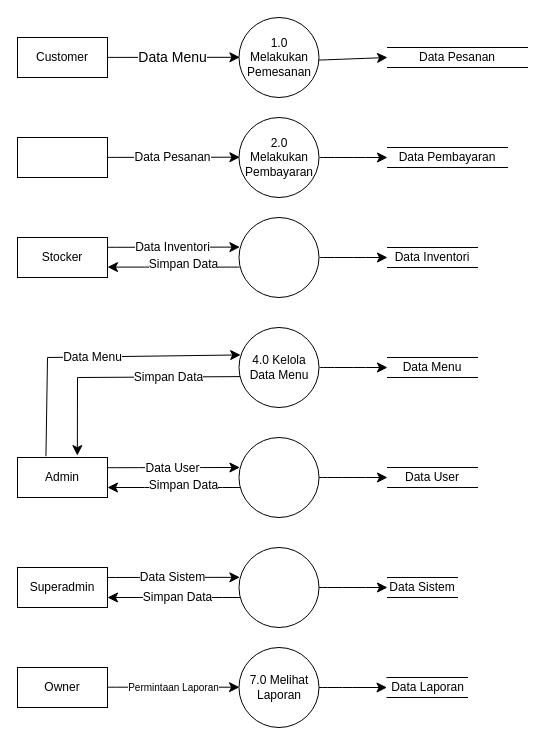
This 545x745 diagram has some shape labels left out. The shapes that lost their labels are listed below. From the top down, each one's box as (x1, y1, x2, y2) in pixels, then its label:
(16, 136, 108, 178): Cashier
(238, 216, 319, 298): 3.0 Kelola Inventori
(238, 436, 319, 518): 5.0 Kelola Data User
(238, 546, 319, 628): 6.0 Manajemen Sistem
